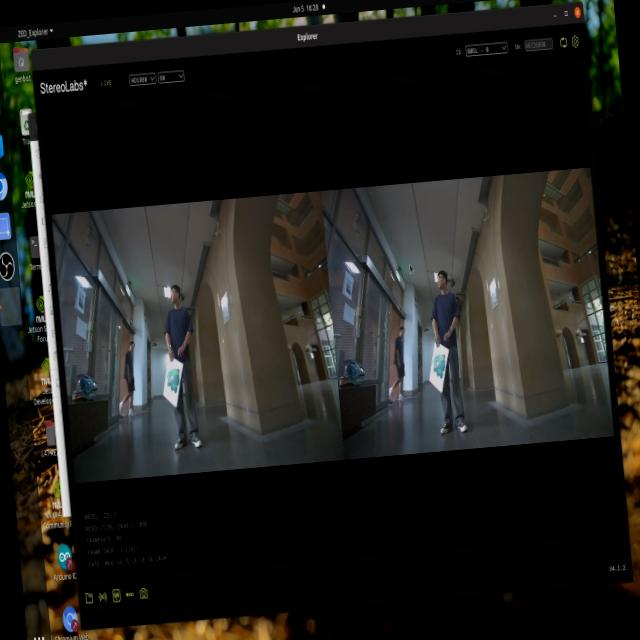green: (430, 340, 457, 396), (157, 354, 185, 400)
